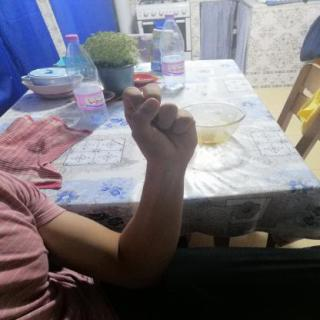QAAF: (114, 77, 209, 172)
